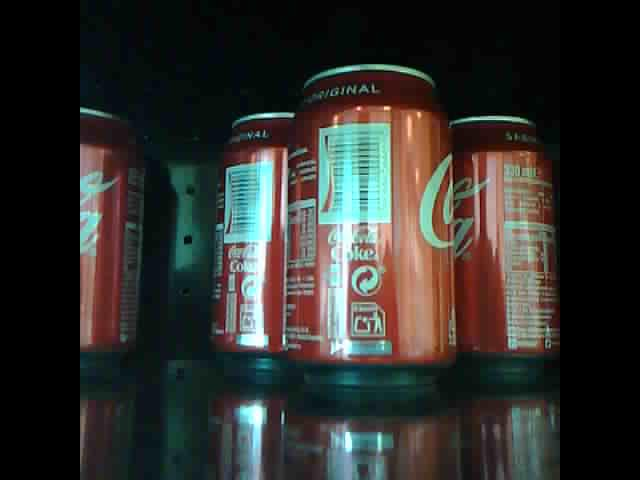coca cola: (290, 67, 456, 376), (447, 115, 561, 377), (207, 108, 288, 372), (80, 103, 147, 365)
